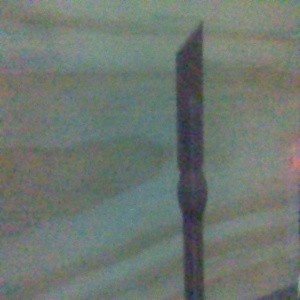cutter: (173, 20, 209, 300)
